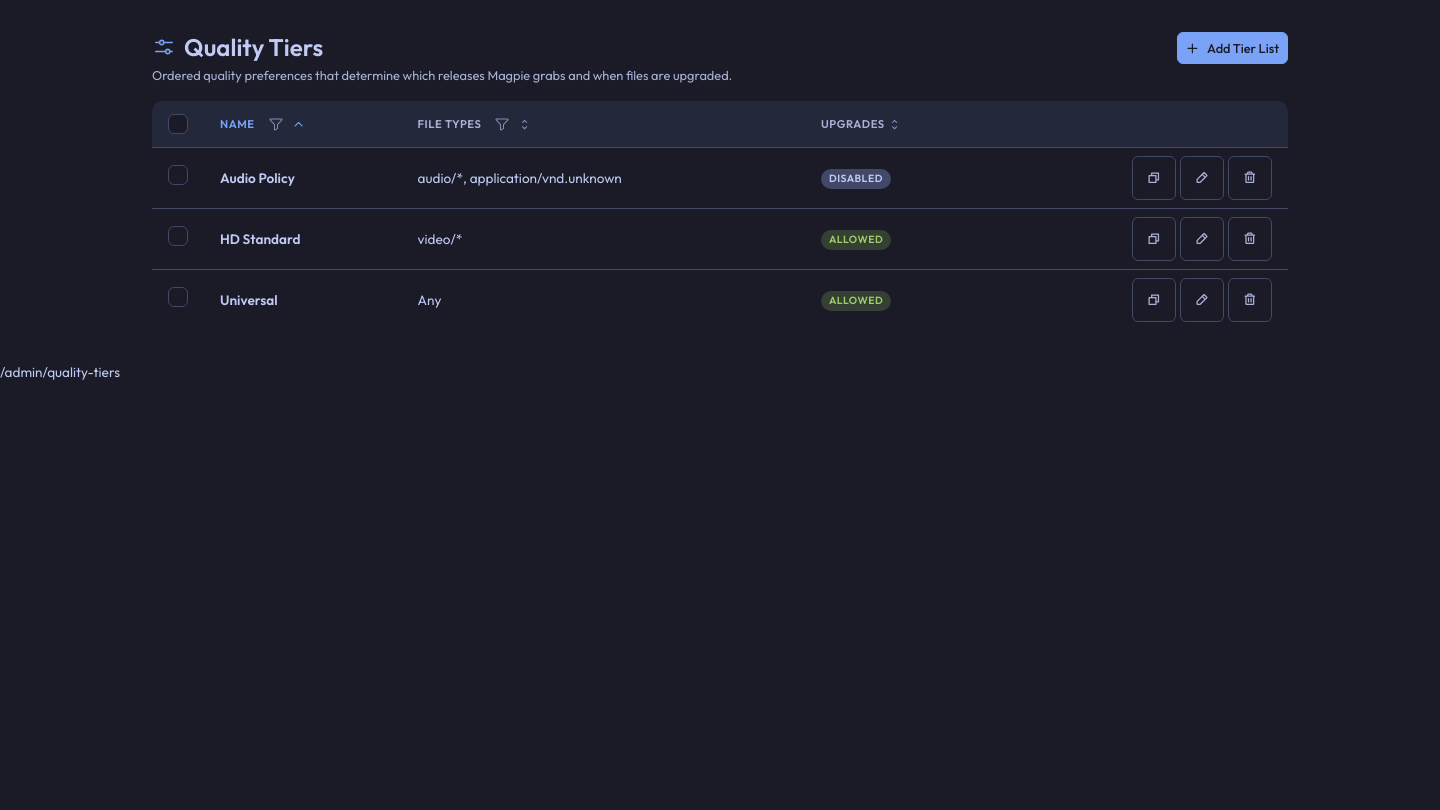
QualityTiersPage › does not delete before confirmation
Check: the row "HD Standard video/* Allowed" is shown, box [152,209,1288,270]
Click the button named "Delete HD Standard": (1250, 239) [1228,217,1272,261]
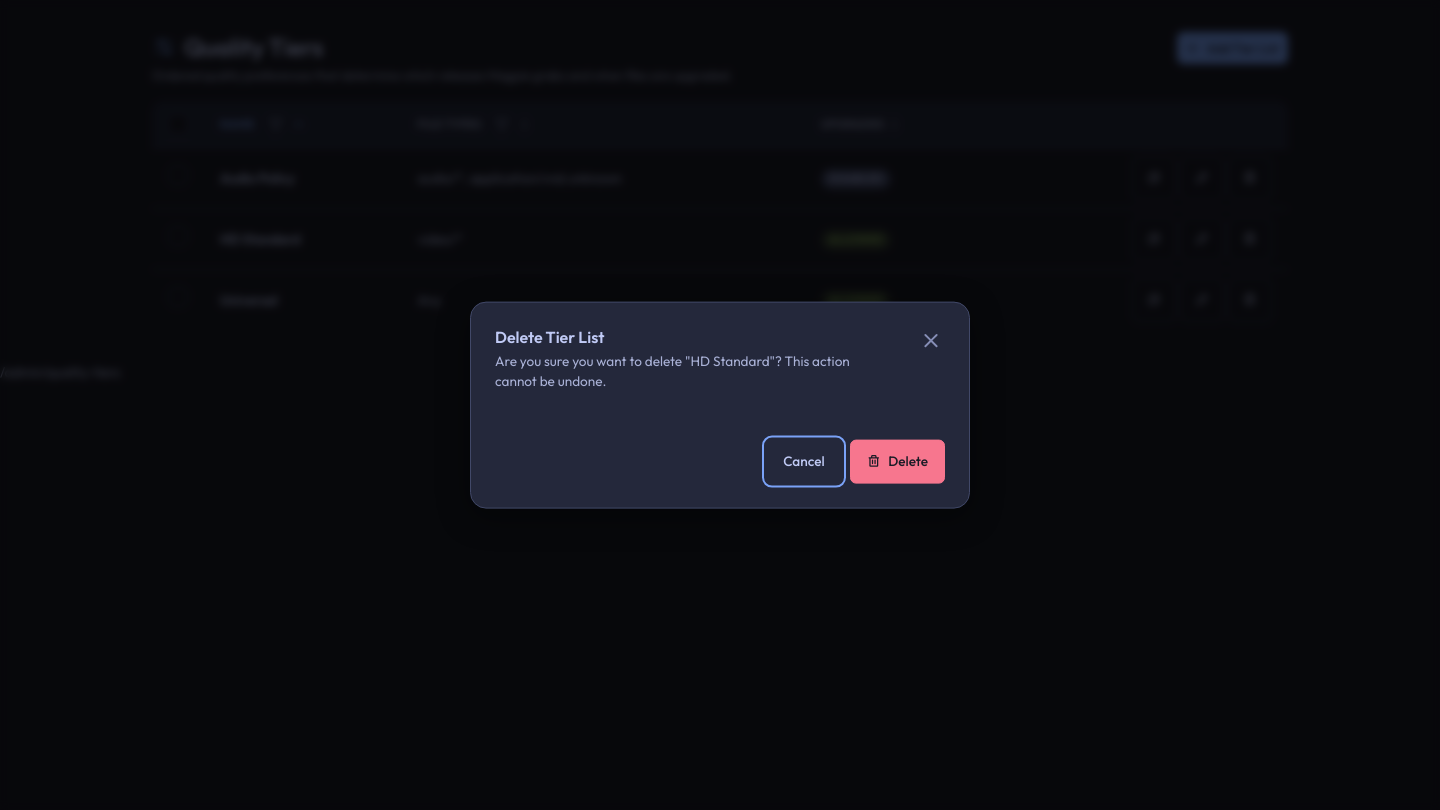
Check: the heading "Delete Tier List" is shown, box [495,327,604,347]
